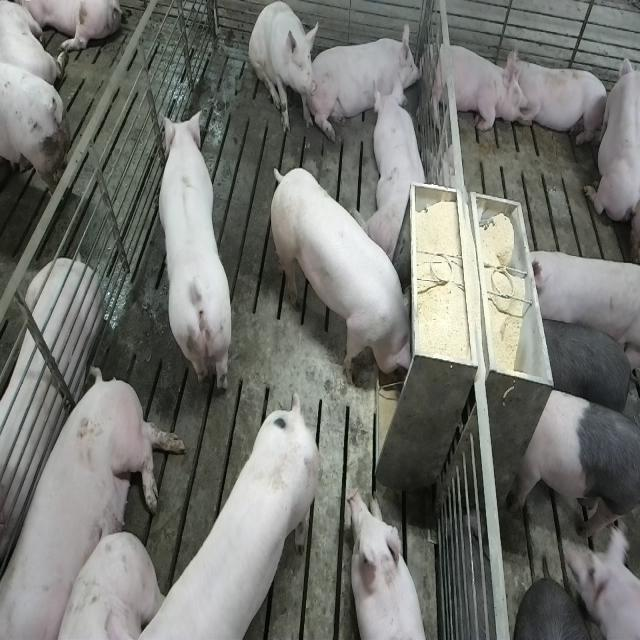Feeding: (273, 165, 421, 393)
Lateral_lying: (3, 362, 187, 636), (0, 256, 103, 582)
Sitting: (249, 2, 320, 137)
Standing: (129, 395, 324, 640), (153, 106, 231, 398), (514, 384, 639, 543), (524, 251, 637, 358), (533, 315, 638, 419), (562, 513, 637, 638)
Sternal_lying: (350, 487, 432, 640), (314, 24, 424, 134), (366, 79, 430, 264), (508, 50, 610, 150), (584, 44, 637, 227), (425, 37, 522, 134)
